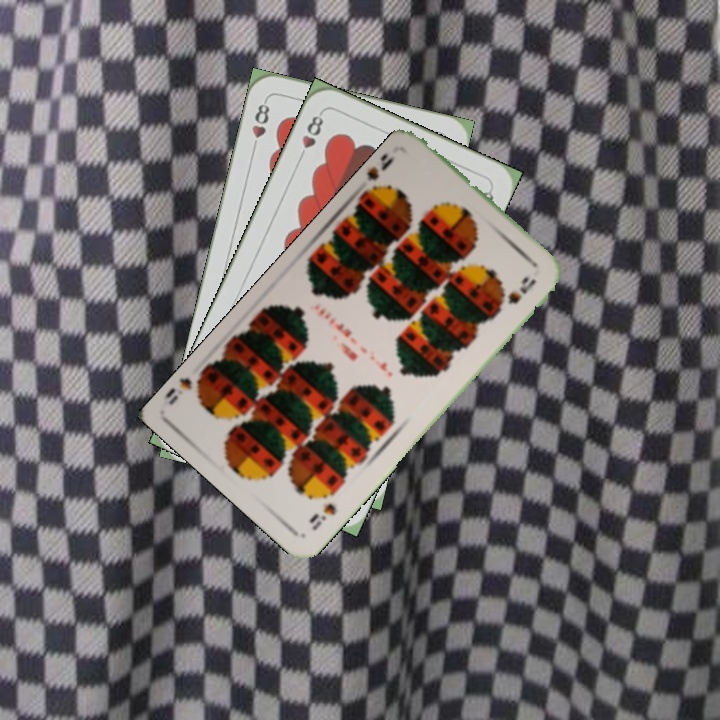H8: (294, 108, 326, 164), (248, 96, 272, 154)
S9: (360, 150, 398, 199), (305, 499, 339, 533)
